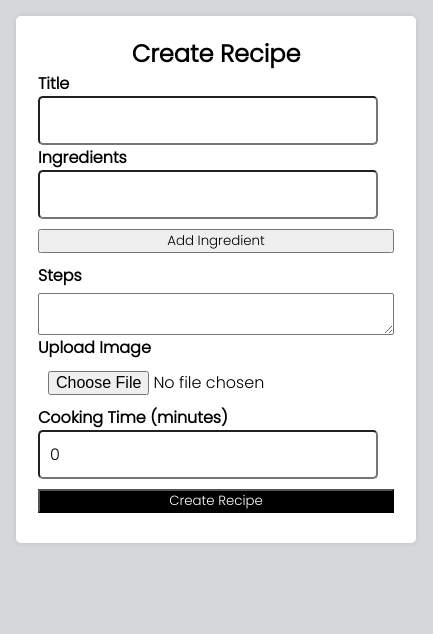
AddRecipe Component › adds an ingredient input when "Add Ingredient" button is clicked
The width and height of the screenshot is (433, 634).
Click the button "Add Ingredient" at (216, 241), box [38, 229, 394, 253]
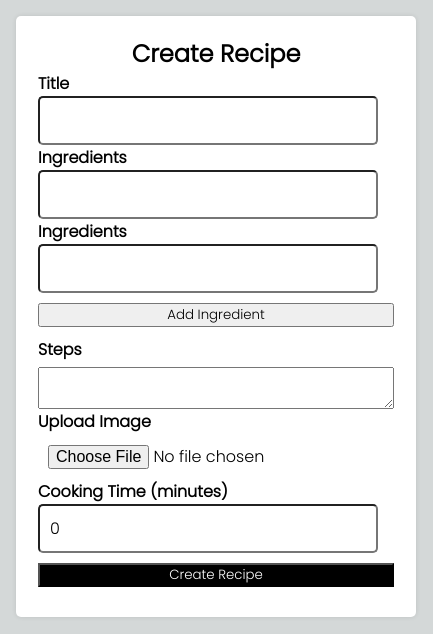
Expected: the number of fields labelled "Ingredients" is 2, [38, 170, 378, 219]; [38, 244, 378, 293]
